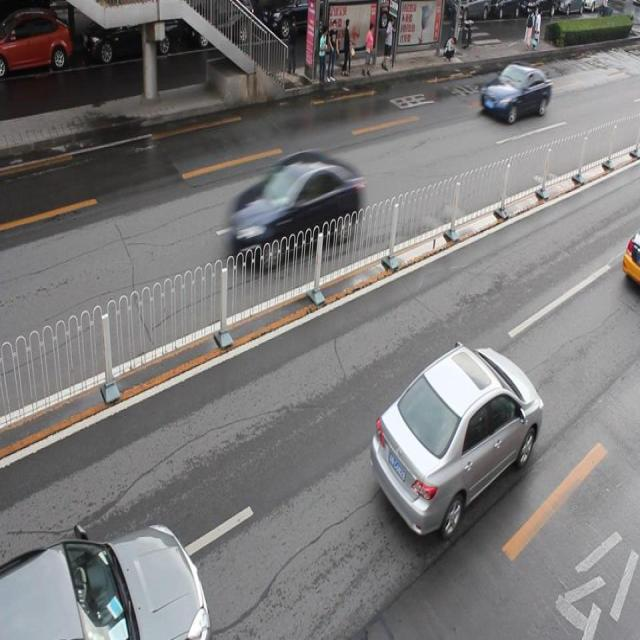car: (370, 341, 542, 536), (1, 521, 210, 640), (229, 151, 361, 265), (81, 1, 176, 68), (1, 12, 72, 79), (478, 63, 550, 124), (258, 2, 328, 48), (185, 2, 254, 48)
